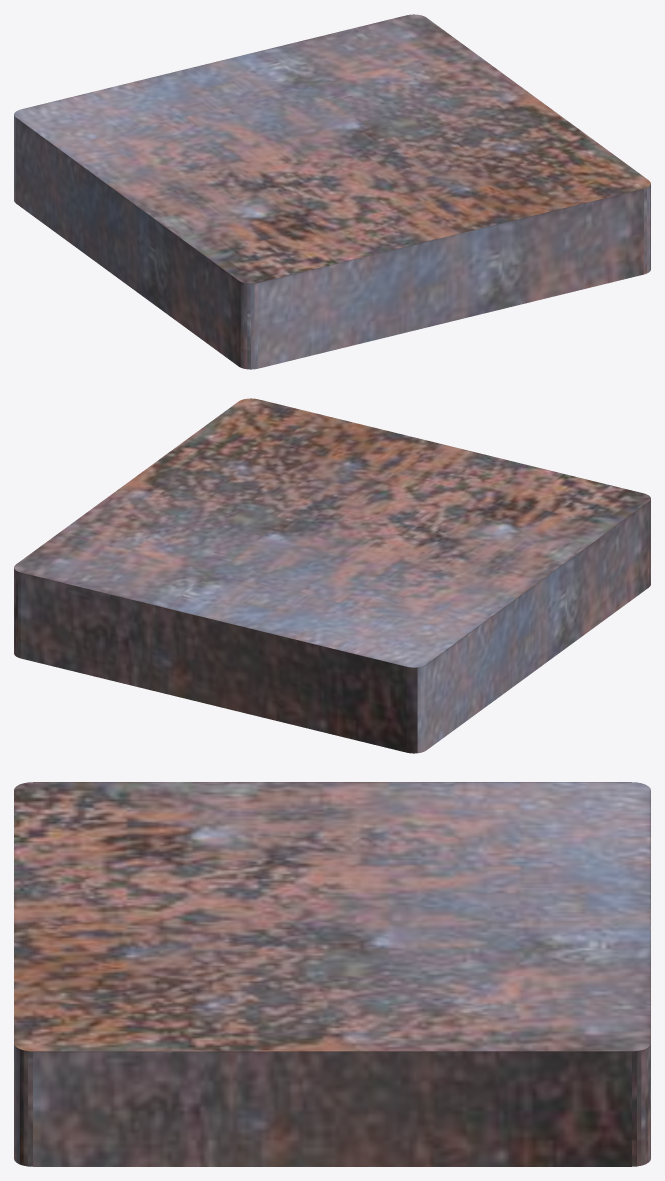
The model's file is square_copper.fbx.
3 renders of one model, top to bottom at view 1: azimuth 30°, elevation 25°; view 2: azimuth 150°, elevation 25°; view 3: azimuth 270°, elevation 25°, orthographic. The views are drawn at different scales.
Visible parts, largest first — view 1: Model; view 2: Model; view 3: Model.
Part boxes in pixels (x1=…): Model: x1=14, y1=14, x2=650, y2=369; Model: x1=14, y1=398, x2=650, y2=753; Model: x1=14, y1=782, x2=650, y2=1166.
Size of the model in its own units: 5 by 1 by 5.
